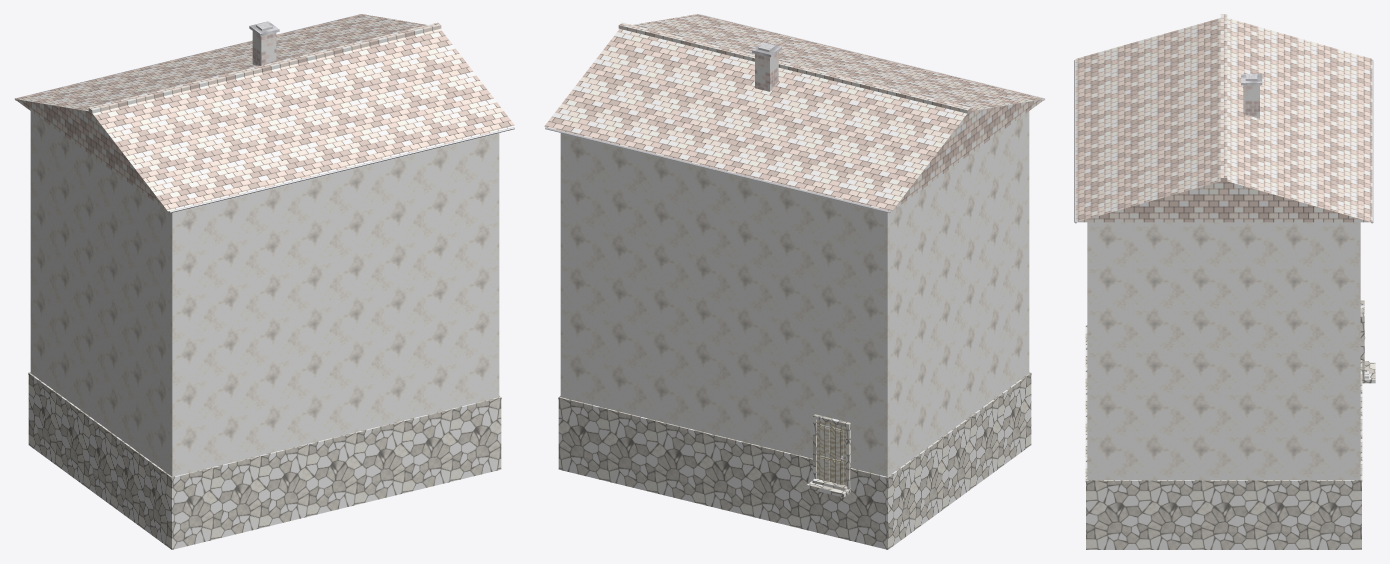
3 views of the same model, side by side, from view 1: azimuth 30°, elevation 25°; view 2: azimuth 150°, elevation 25°; view 3: azimuth 270°, elevation 25° (orthographic). The views are drawn at different scales.
Parts seen in each view (by area): view 1: b1085400572; view 2: b1085400572; view 3: b1085400572.
Part boxes in pixels (box(x1,y1,x2,y2)): b1085400572: box(14, 14, 515, 549); b1085400572: box(544, 14, 1045, 549); b1085400572: box(1074, 14, 1375, 549).
Size of the model in its own units: 11.68 by 13.36 by 9.06.
Materials: 14 (14 with a texture image).
